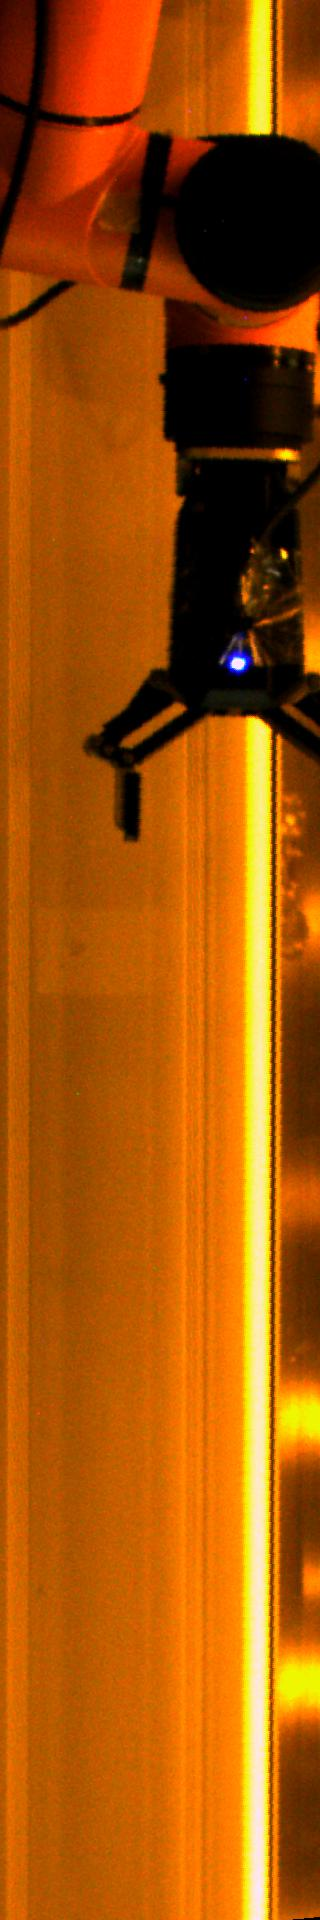keyPoint_1: (224, 648, 254, 678)
